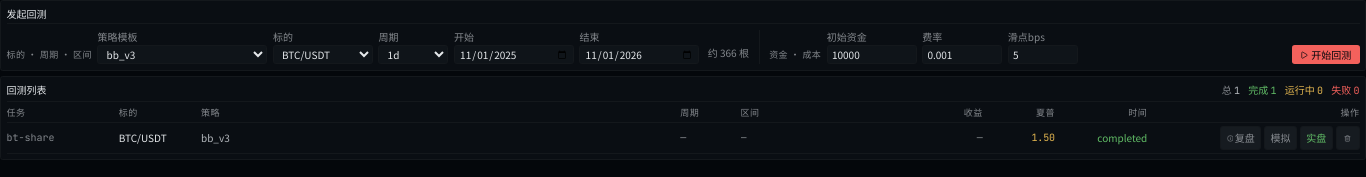
Test case: 发车区间预估条 › 周期切到 1m → 变 heavy 档,附「建议缩短区间或放大周期」
The width and height of the screenshot is (1366, 177).
Select "1m" in the dropdown showing "1d" at (414, 55), box [378,45,448,64]
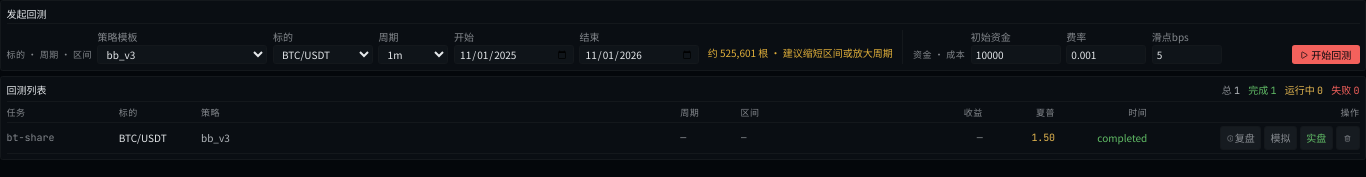
Expected: the text "约 525,601 根 · 建议缩短区间或放大周期" is shown, [708,46,893,64]
